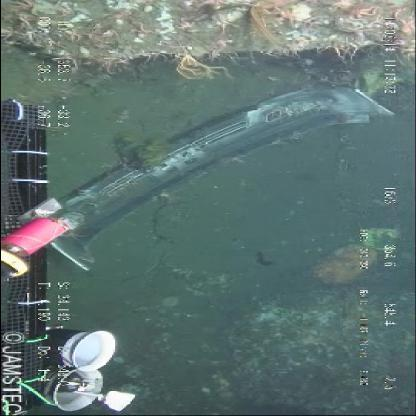Rov: (6, 86, 143, 416)
Rác: (60, 77, 393, 272)
